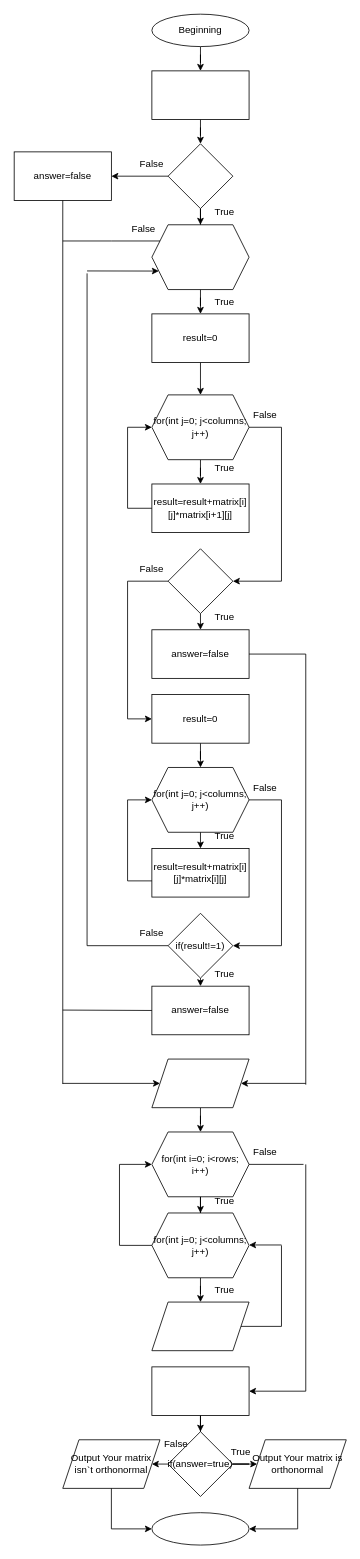
This 360x1559 diagram has some shape labels left out. The centre of each missing label's shape, as x and y in pixels:
"answer= MyFunc(matrix, rows, columns)" goes at pixel 200 1390.
"End" goes at pixel 200 1528.
"for(int i=0; i<rows-1; i++)" goes at pixel 200 257.
"if(column>1 and rows>1)" goes at pixel 200 176.
"if(result !=0)" goes at pixel 200 581.
"Input matrix[i][j]" goes at pixel 200 1326.
"Input rows, columns" goes at pixel 200 1083.
"MyFunc(matrix, rows, columns) answer=true result" goes at pixel 200 94.
